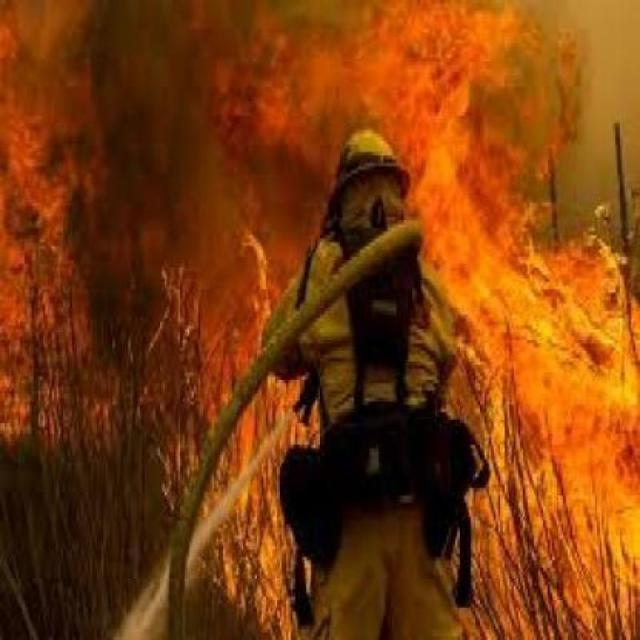Fire: (375, 38, 640, 557), (184, 266, 334, 628), (2, 208, 108, 452)
